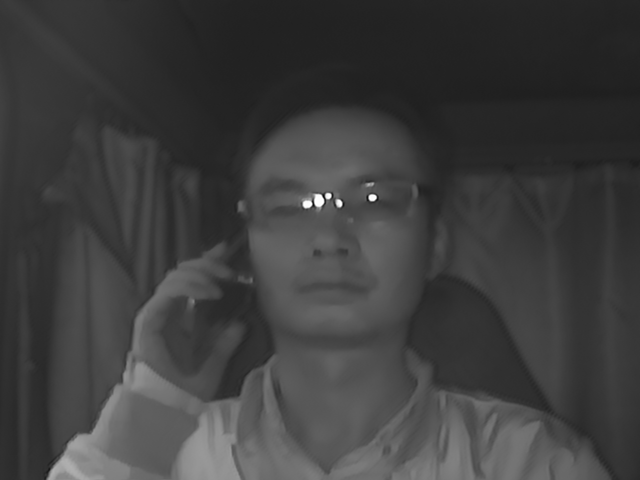hand: (128, 244, 250, 403)
